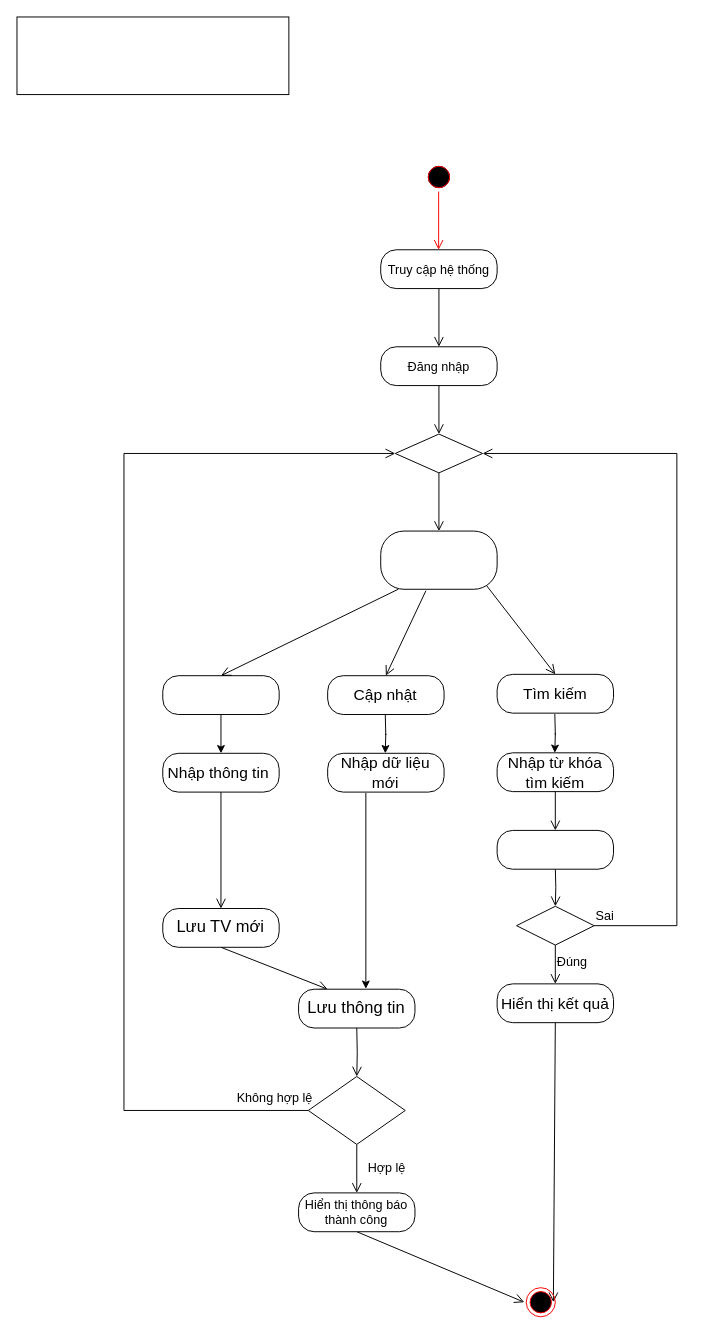
The diagram is 704 pixels wide and 1334 high, and some of its shapes have lost their labels. The shapes that lost their labels are listed below. From the top down, each one's box as (x1, y1, x2, y2) in pixels, then its label:
(16, 16, 289, 95): QUẢN LÝ THÀNH VIÊN
(380, 530, 497, 589): Vào trang quản lý danh sách thành viên
(162, 675, 279, 715): Thêm mới
(496, 829, 614, 869): Hiển thị danh sách kết quả
(516, 905, 594, 945): Điều kiện
(307, 1076, 405, 1144): Kiểm tra hợp lệ
